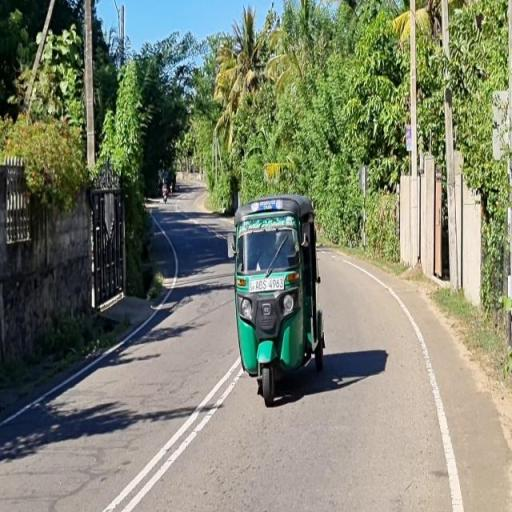double_white_line: (104, 358, 240, 511)
